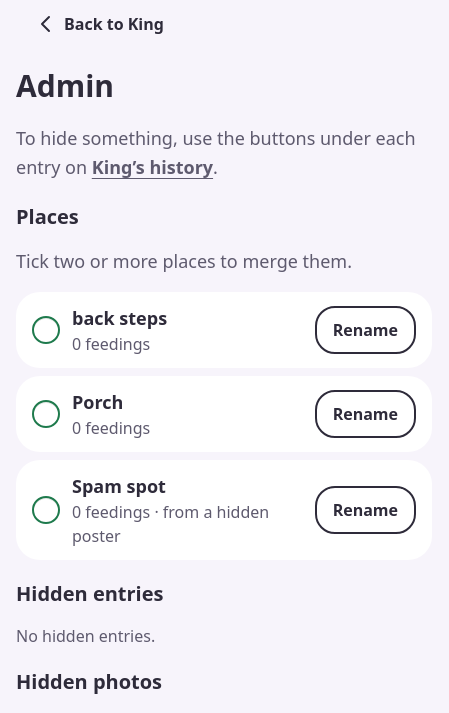
Test case: AdminPage — renaming a place › says it didn’t work when saving fails for another reason
Click the button with aria-label "Rename Porch": click(365, 414) x1=315 y1=390 x2=416 y2=438
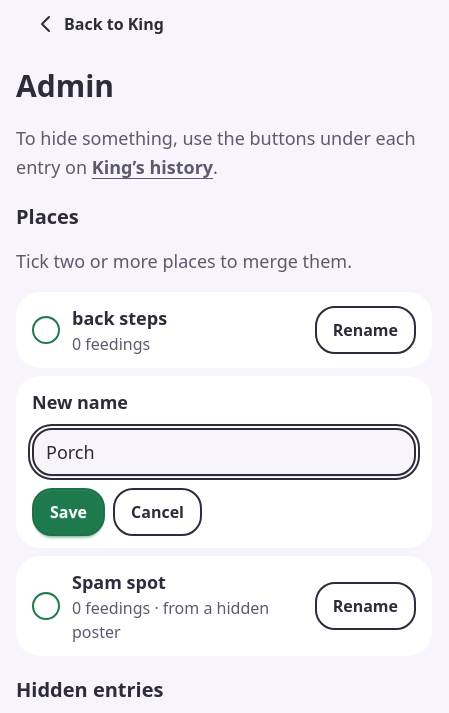
Click the button "Save": click(68, 512) x1=32 y1=488 x2=105 y2=536
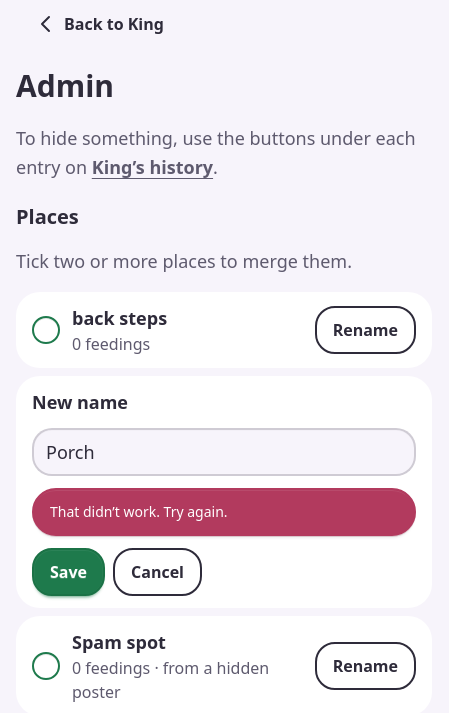
Expected: the field labelled "New name" is shown, x1=32 y1=428 x2=416 y2=476
Expected: the message reads "That didn’t work. Try again.", x1=50 y1=502 x2=228 y2=521
